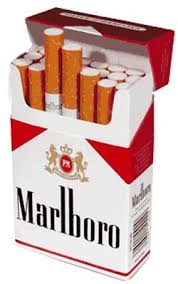marlboro: (10, 90, 128, 269)
